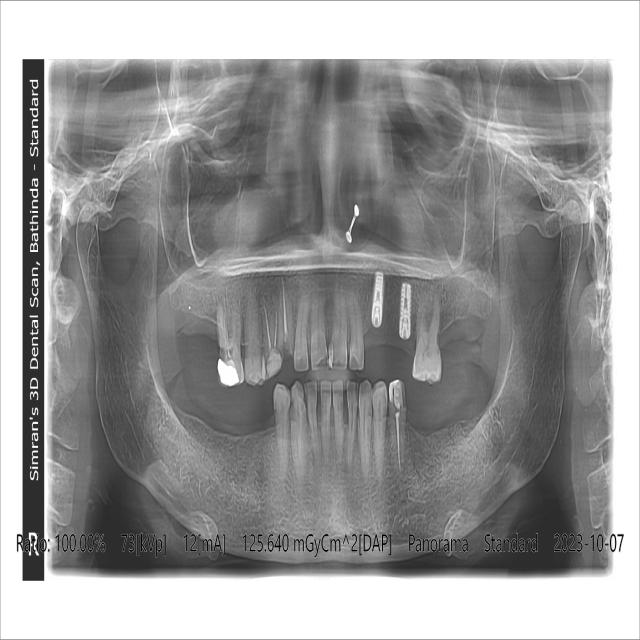Filling: (218, 359, 239, 387)
